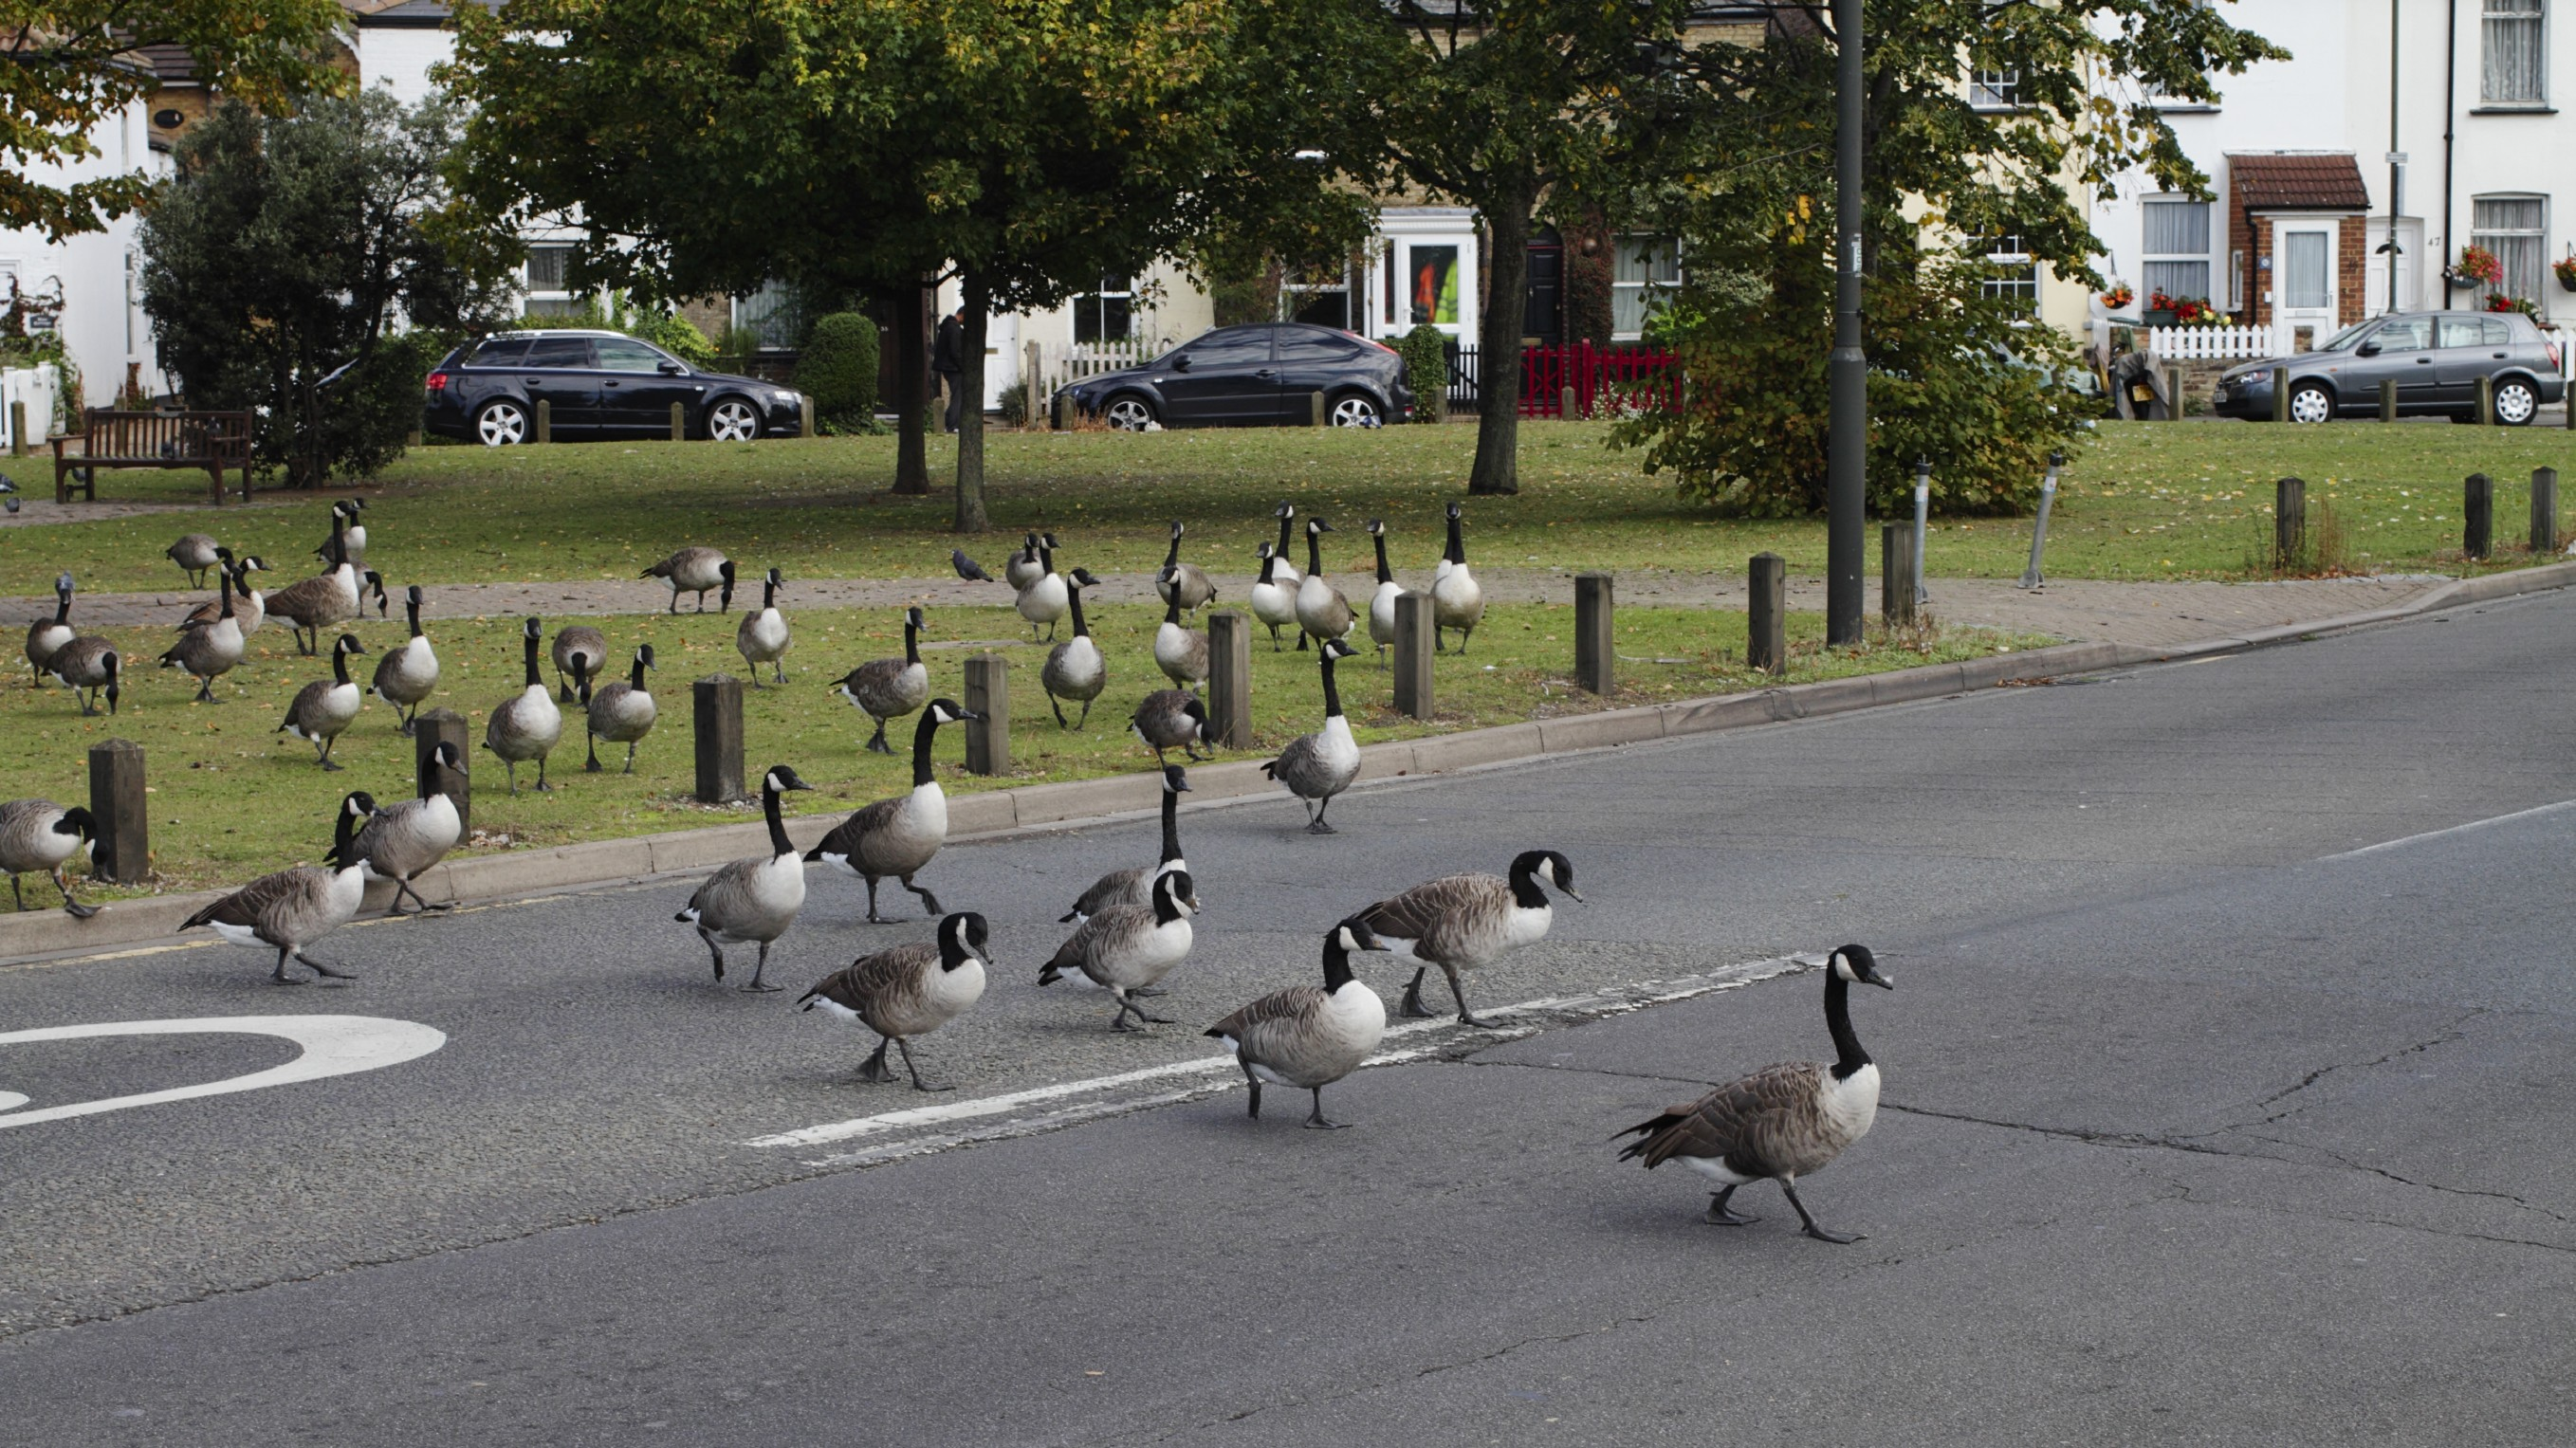goose: (1608, 925, 1902, 1254), (172, 773, 393, 1008), (1336, 840, 1587, 1034), (782, 903, 1008, 1114), (807, 688, 994, 932), (1221, 914, 1401, 1137), (672, 748, 824, 1008), (1033, 863, 1207, 1041), (334, 732, 474, 912), (1258, 633, 1369, 850), (1062, 760, 1203, 921), (474, 608, 566, 794), (833, 605, 939, 751), (269, 631, 368, 773), (159, 557, 251, 707), (2, 792, 103, 923), (271, 500, 357, 642), (577, 642, 663, 776), (1039, 568, 1104, 734), (368, 580, 441, 728), (725, 564, 793, 686), (1435, 500, 1490, 649), (1297, 516, 1357, 645), (1361, 518, 1417, 654), (1152, 564, 1214, 686), (639, 545, 740, 617), (182, 545, 272, 624), (1123, 682, 1215, 760), (19, 573, 81, 684), (1007, 532, 1072, 633), (51, 629, 127, 711), (1154, 520, 1215, 612), (1247, 543, 1300, 647), (552, 624, 612, 702), (159, 529, 239, 580), (322, 490, 372, 557), (1000, 529, 1044, 585), (1269, 500, 1299, 578)
